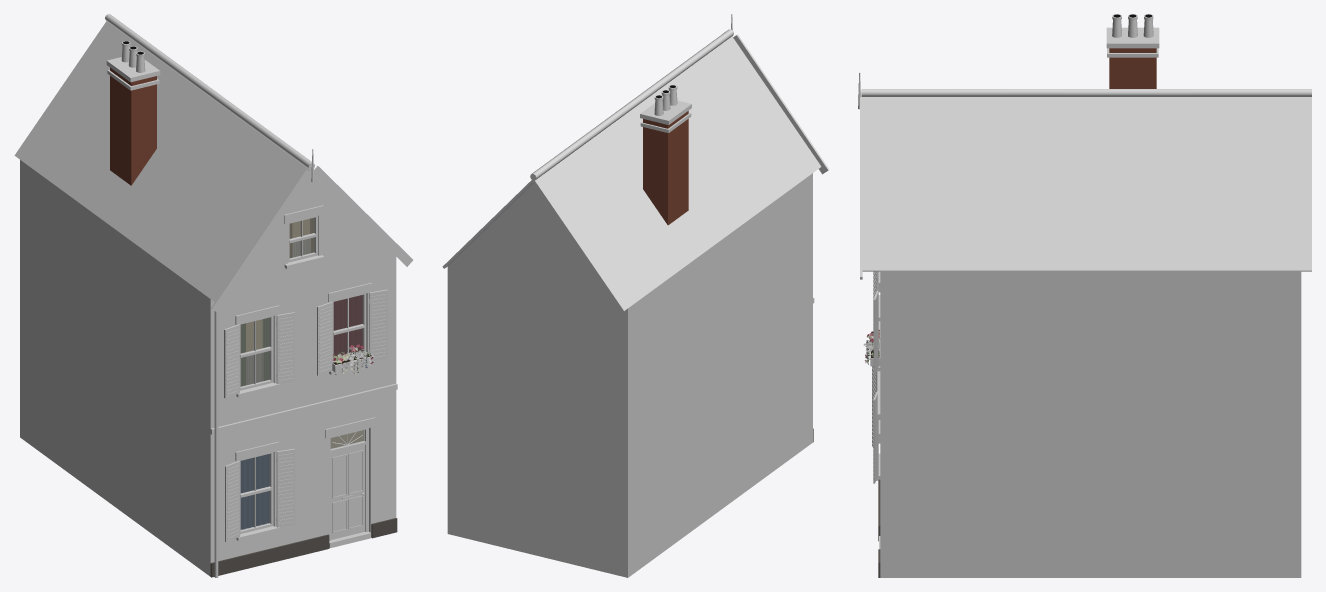
Rendered from Opposite_Opposite2_5.glb.
3 views of the same model, side by side, from view 1: azimuth 30°, elevation 25°; view 2: azimuth 150°, elevation 25°; view 3: azimuth 270°, elevation 25° (orthographic). The views are drawn at different scales.
Visible parts, largest first — view 1: Opposite_Opposite2_5; view 2: Opposite_Opposite2_5; view 3: Opposite_Opposite2_5.
Boxes of the visible parts, bbox=[...] form: Opposite_Opposite2_5: bbox=[14, 14, 412, 577]; Opposite_Opposite2_5: bbox=[442, 14, 829, 577]; Opposite_Opposite2_5: bbox=[858, 14, 1311, 577].
Size of the model in its own units: 4.88 by 10.1 by 8.62.
